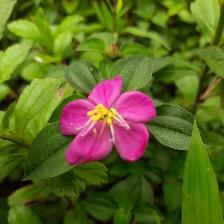malabar melastome: (60, 75, 159, 169)
